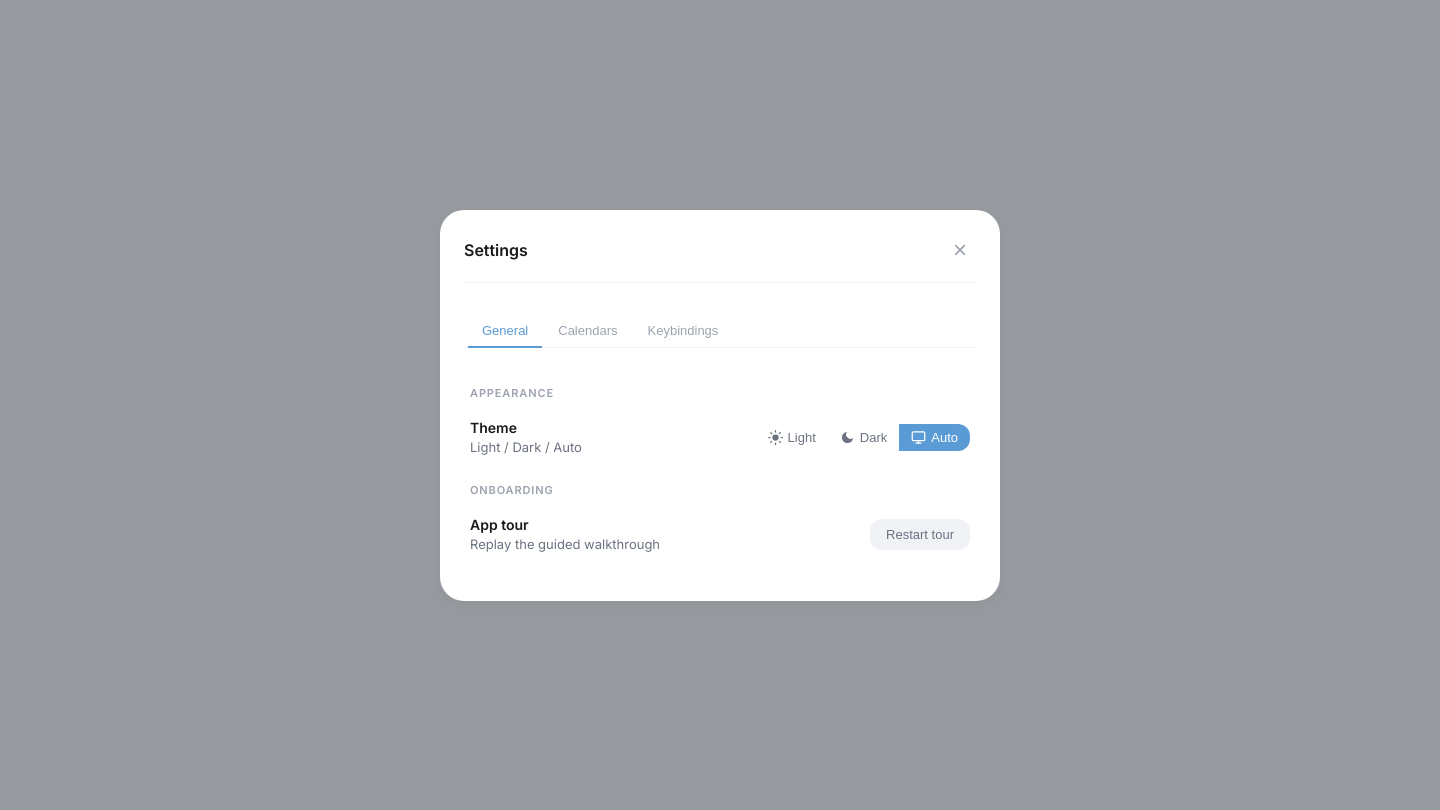
it: SettingsModal — calendars tab › shows 'Authenticating…' while authenticating
The image size is (1440, 810).
Click the button "Calendars": {"x": 588, "y": 331} [544,314,632,348]
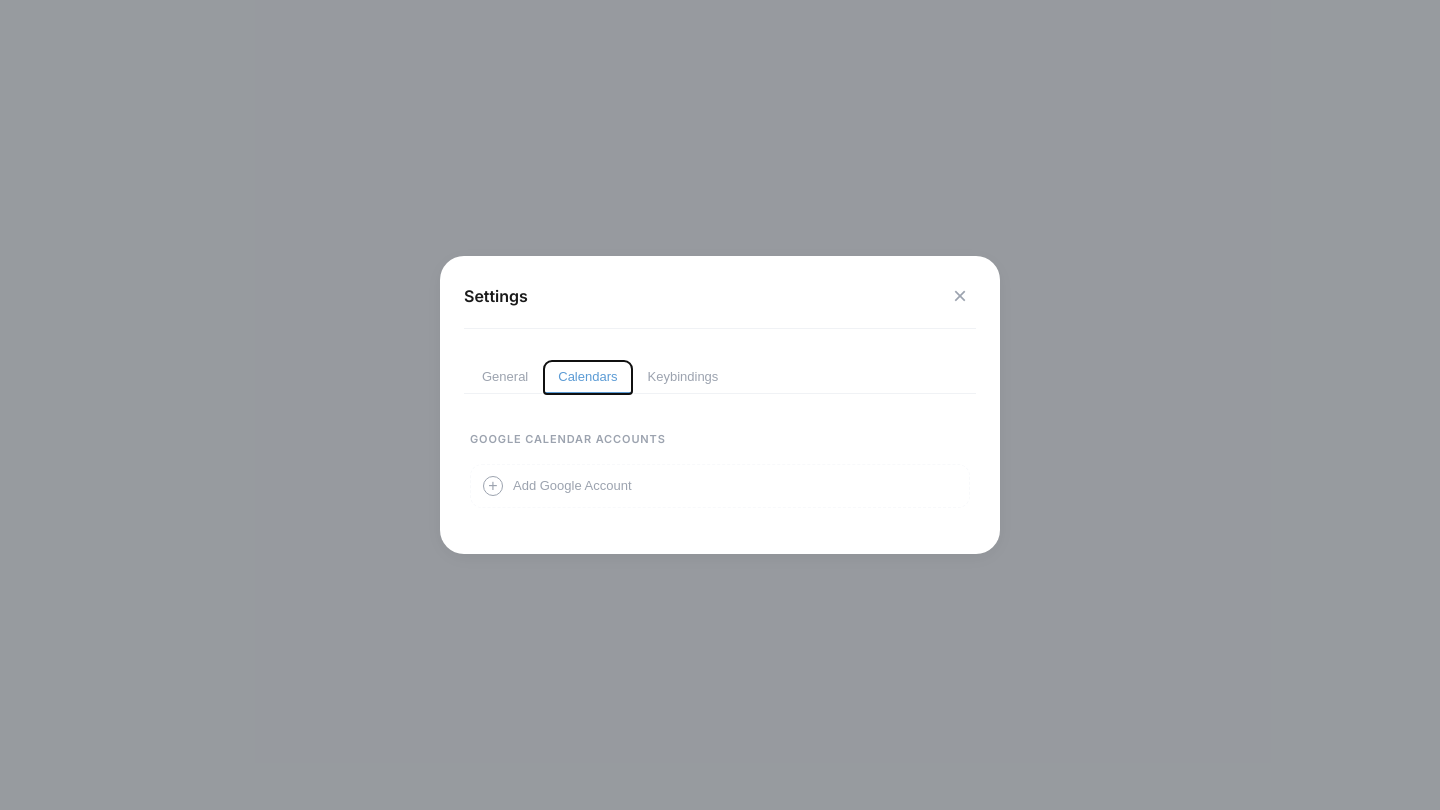
Click the button "+ Add Google Account": {"x": 572, "y": 486} [470,464,970,508]
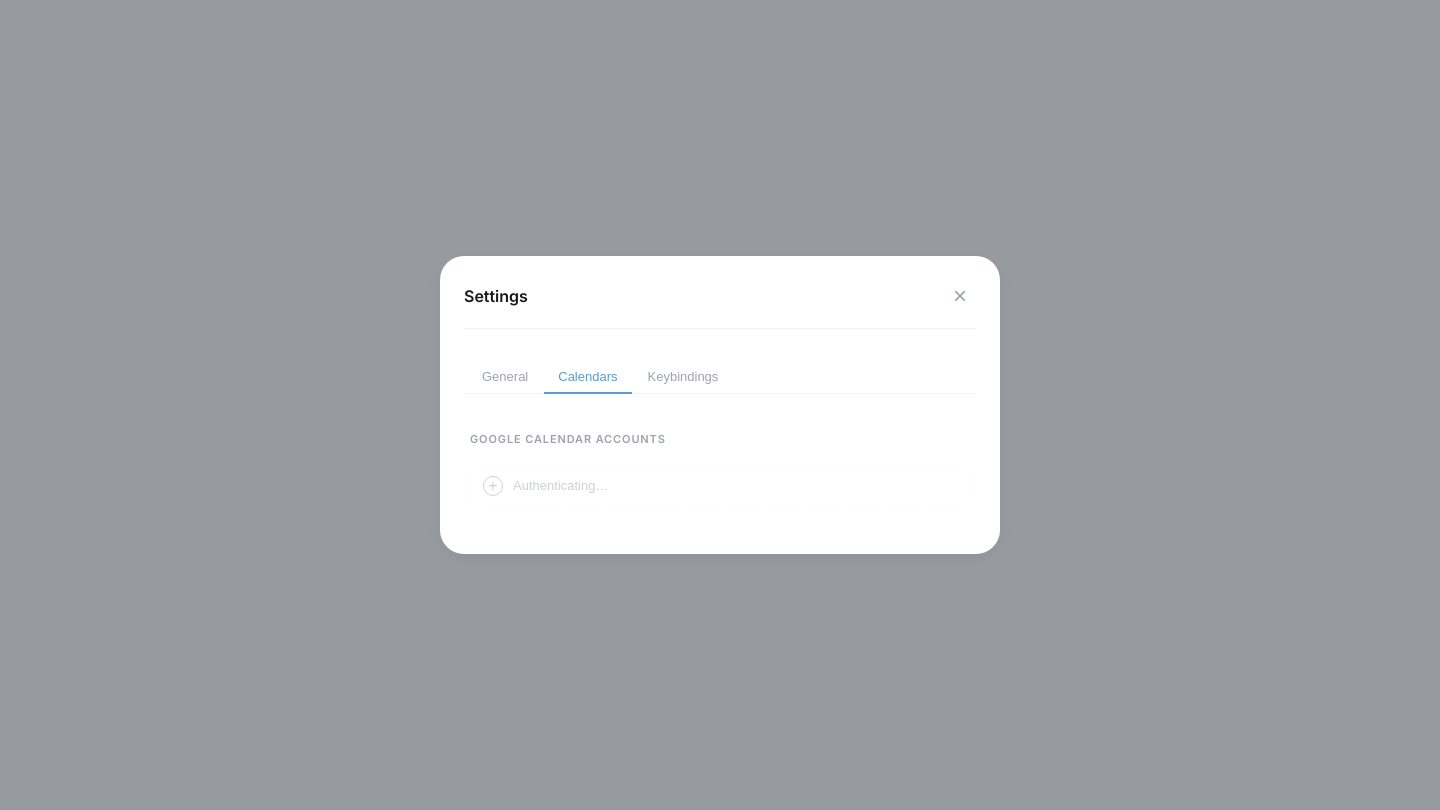
Result: the button "+ Authenticating…" is shown at [470,464,970,508]
